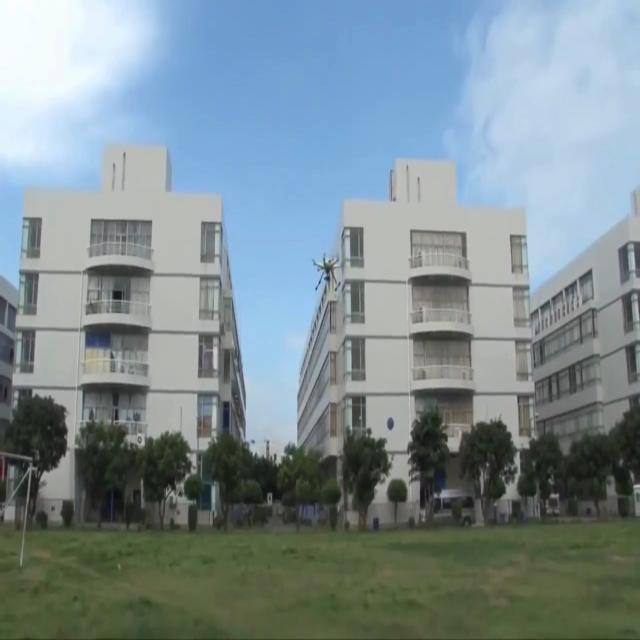drone: (311, 252, 340, 291)
